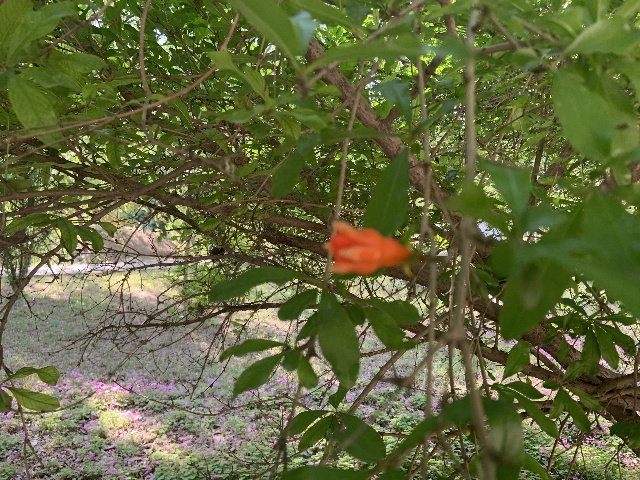flower: (324, 222, 412, 276)
